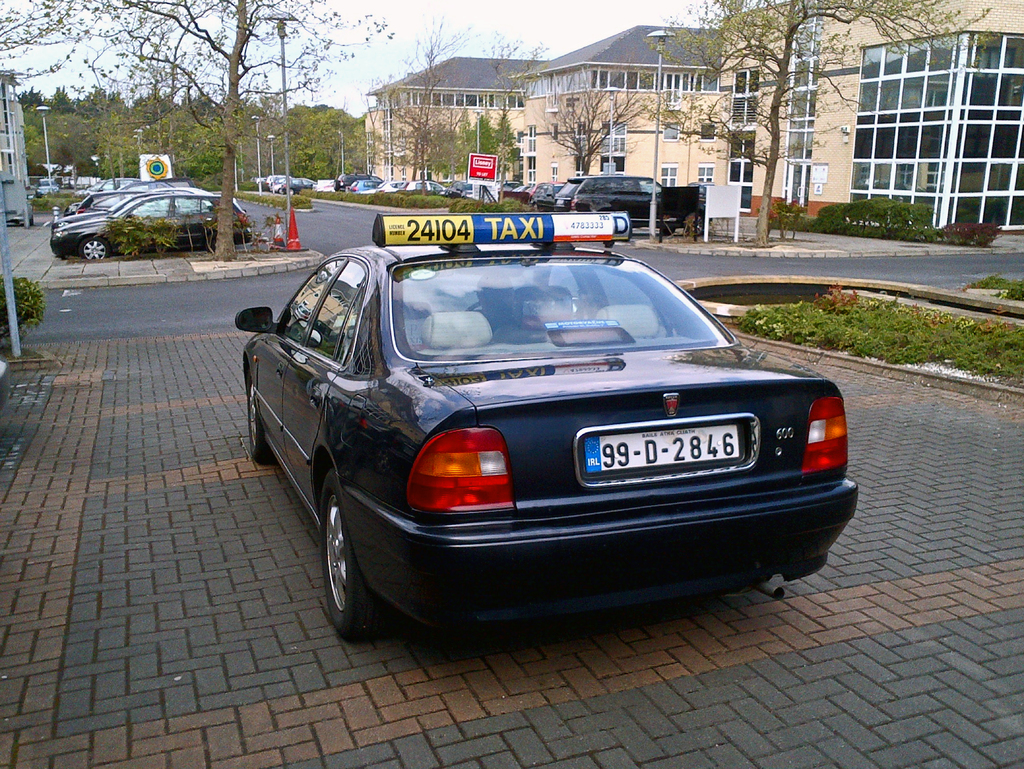license plate: (587, 433, 746, 468)
